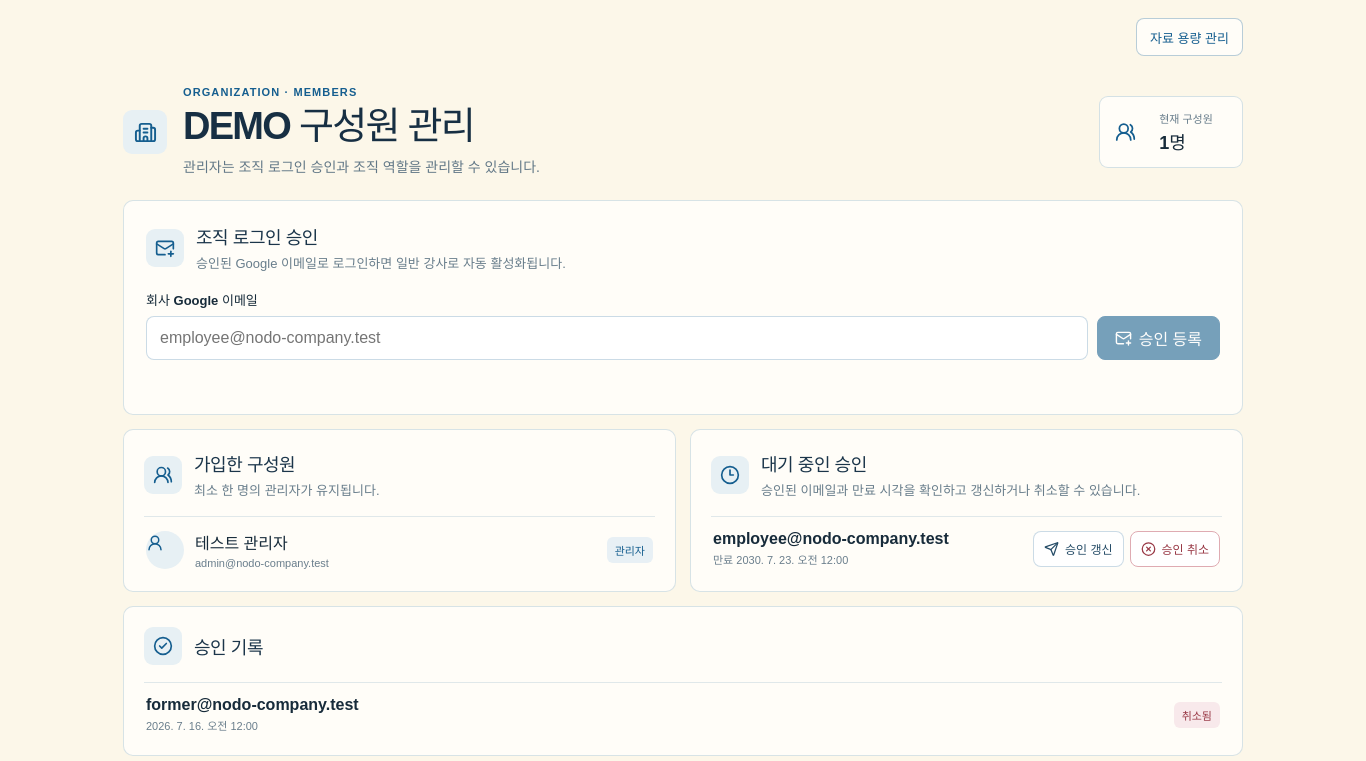
조직 구성원 관리 화면 › 회사 이메일을 정규화해 등록하고 성공 상태를 표시한다
Check: the heading "가입한 구성원" is shown, box 194,455 -> 295,475
Step 1. Type "  New.Employee@NODO-COMPANY.TEST  " into the field labelled "회사 Google 이메일" → (617, 338), box 146,316 -> 1088,360
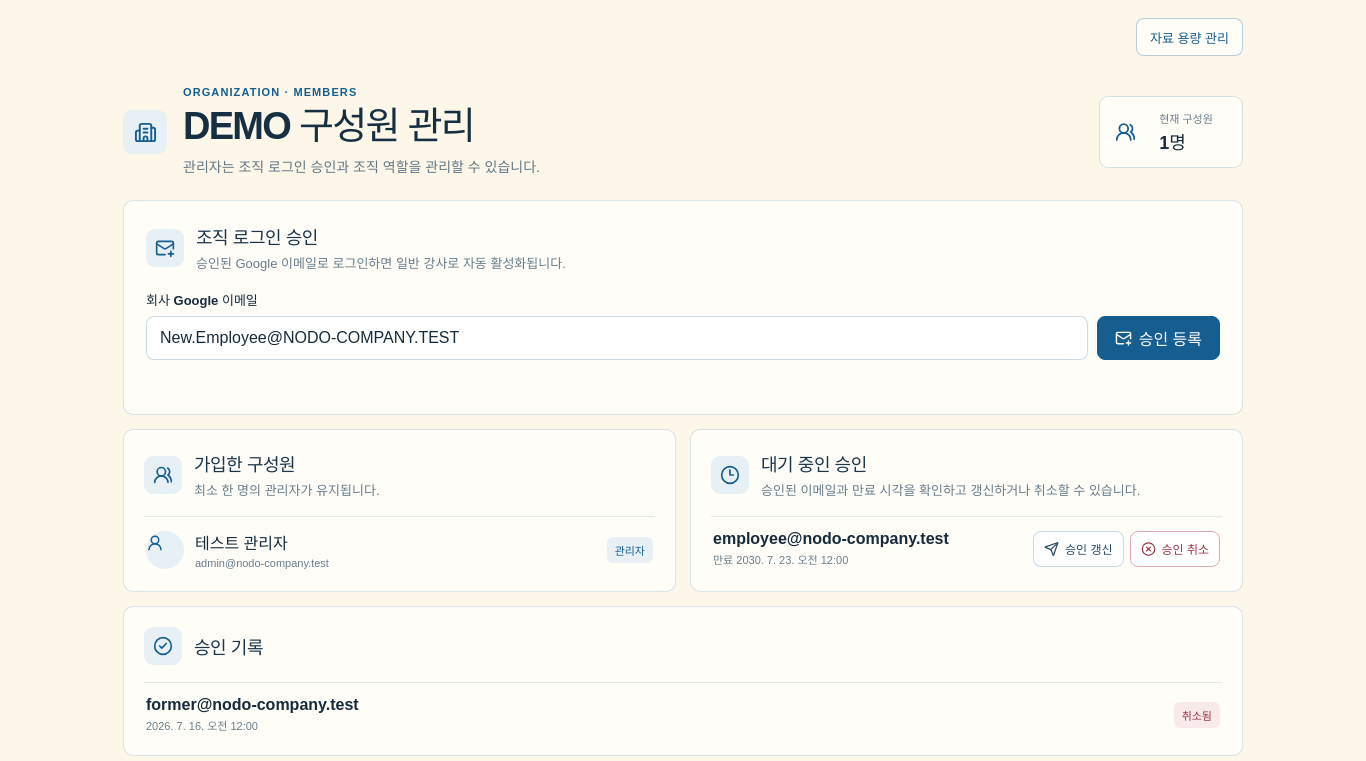
Step 2. Click the button "승인 등록" → (1158, 338), box 1097,316 -> 1220,360
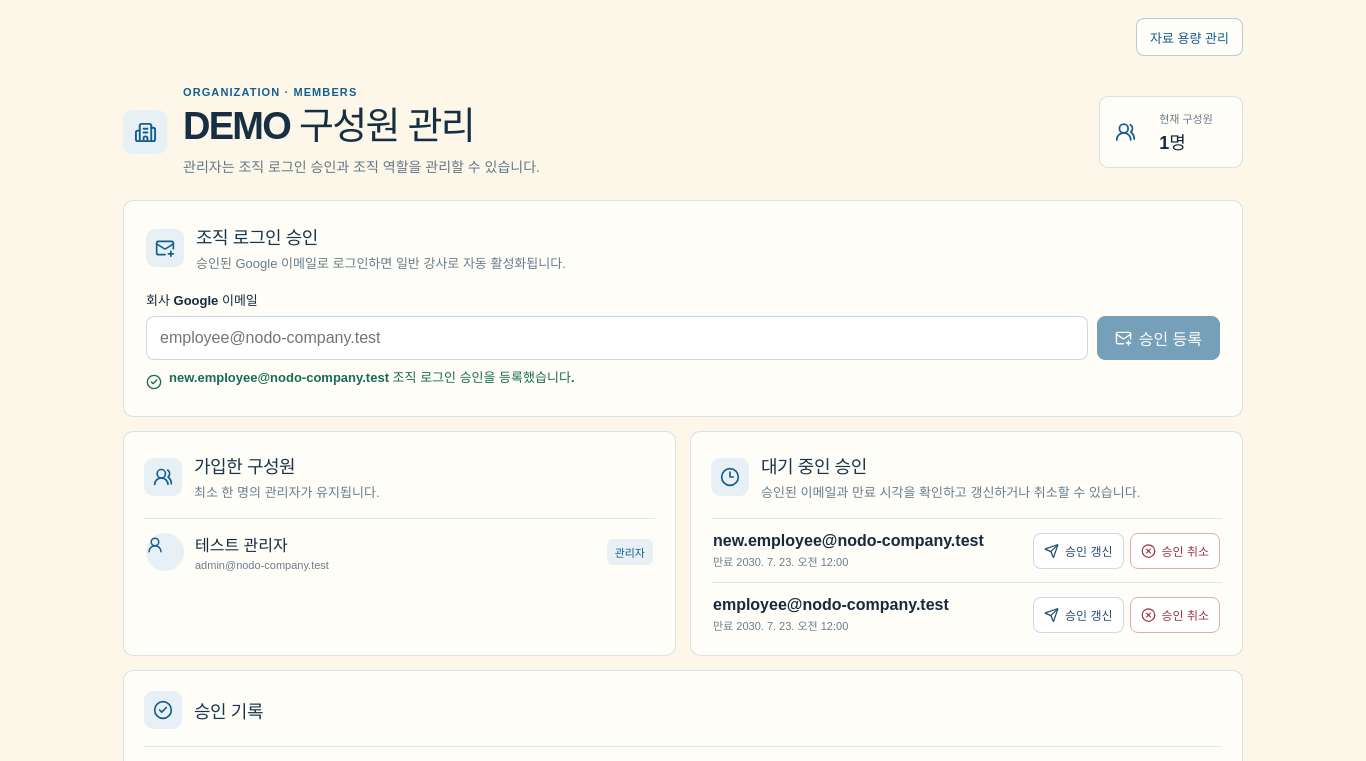
Check: the text "new.employee@nodo-company.test 조직 로그인 승인을 등록했습니다." is shown, box 146,370 -> 574,394
Check: the text "new.employee@nodo-company.test" is shown, box 713,532 -> 1022,550
